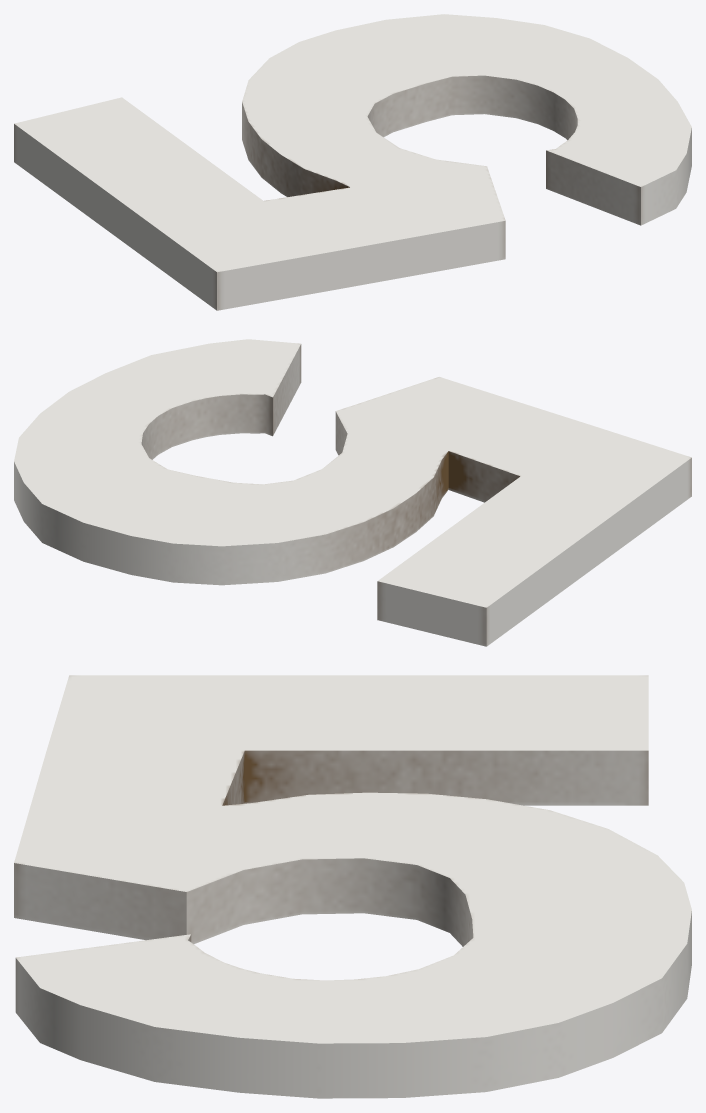
File: 5_Silver.glb
3 renders of one model, top to bottom at view 1: azimuth 30°, elevation 25°; view 2: azimuth 150°, elevation 25°; view 3: azimuth 270°, elevation 25°, orthographic. The views are drawn at different scales.
Visible parts, largest first — view 1: 5*; view 2: 5*; view 3: 5*.
Boxes of the visible parts, bbox=[...] form: 5*: bbox=[14, 14, 691, 310]; 5*: bbox=[14, 339, 691, 646]; 5*: bbox=[14, 675, 691, 1098].
Size of the model in its own units: 0.5498 by 0.0383 by 0.4279.
1 material, 1 textured.
